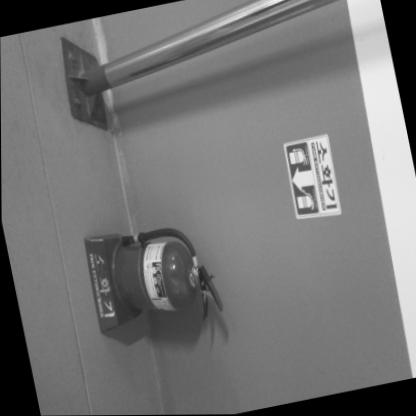FE: (78, 211, 223, 339)
